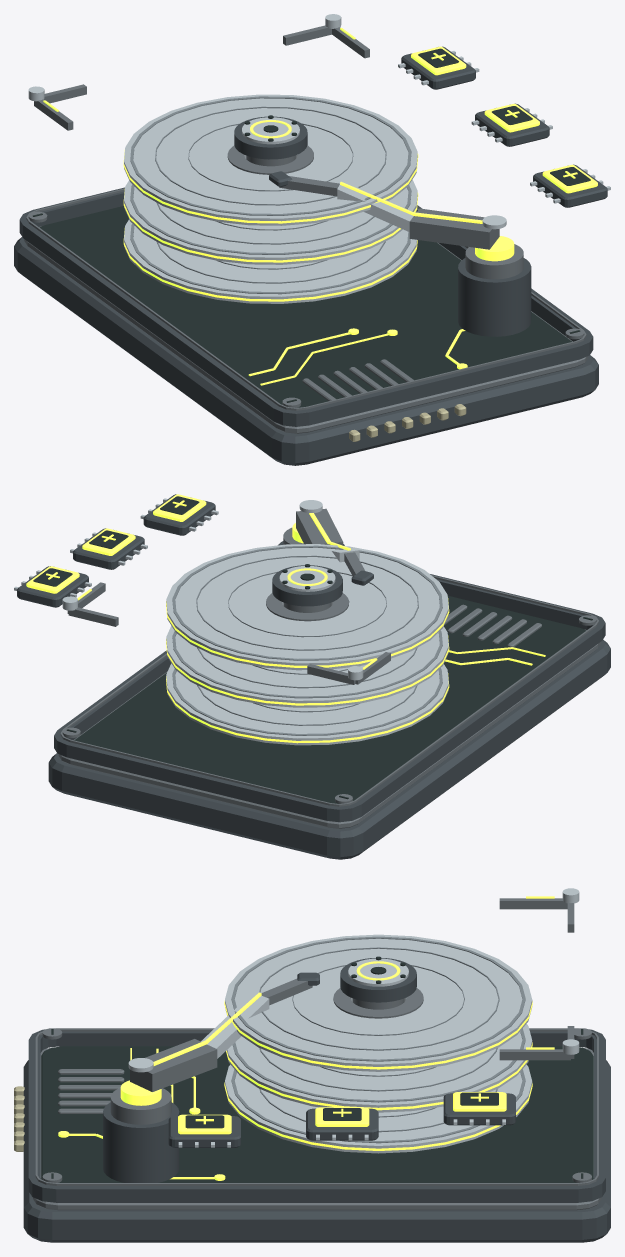
Rendered from drive.glb.
The picture shows the model from 3 angles, top to bottom: view 1: azimuth 30°, elevation 25°; view 2: azimuth 150°, elevation 25°; view 3: azimuth 270°, elevation 25°; orthographic projection. The views are drawn at different scales.
Visible parts, largest first — view 1: 01 / Unibody enclosure, 04 / Suspended platter 3, 06 / Angular actuator arm, 02 / Suspended platter 1, 03 / Suspended platter 2, 05 / Spindle and crown, 07 / Exploded corner rails, 010 / Floating data chip 3, 08 / Floating data chip 1, 09 / Floating data chip 2; view 2: 01 / Unibody enclosure, 04 / Suspended platter 3, 02 / Suspended platter 1, 03 / Suspended platter 2, 05 / Spindle and crown, 06 / Angular actuator arm, 07 / Exploded corner rails, 08 / Floating data chip 1, 09 / Floating data chip 2, 010 / Floating data chip 3; view 3: 01 / Unibody enclosure, 04 / Suspended platter 3, 06 / Angular actuator arm, 03 / Suspended platter 2, 02 / Suspended platter 1, 05 / Spindle and crown, 07 / Exploded corner rails, 09 / Floating data chip 2, 010 / Floating data chip 3, 08 / Floating data chip 1.
Boxes of the visible parts, left/top/right/bottom form: 01 / Unibody enclosure: left=14, top=187, right=598, bottom=465; 04 / Suspended platter 3: left=123, top=94, right=418, bottom=225; 06 / Angular actuator arm: left=269, top=171, right=531, bottom=336; 02 / Suspended platter 1: left=123, top=219, right=417, bottom=303; 03 / Suspended platter 2: left=123, top=179, right=418, bottom=264; 05 / Spindle and crown: left=234, top=115, right=307, bottom=166; 07 / Exploded corner rails: left=28, top=14, right=369, bottom=130; 010 / Floating data chip 3: left=398, top=46, right=479, bottom=89; 08 / Floating data chip 1: left=530, top=164, right=610, bottom=207; 09 / Floating data chip 2: left=471, top=103, right=552, bottom=146; 01 / Unibody enclosure: left=48, top=574, right=610, bottom=859; 04 / Suspended platter 3: left=166, top=544, right=449, bottom=670; 02 / Suspended platter 1: left=166, top=663, right=449, bottom=745; 03 / Suspended platter 2: left=166, top=626, right=449, bottom=707; 05 / Spindle and crown: left=272, top=564, right=342, bottom=612; 06 / Angular actuator arm: left=278, top=500, right=373, bottom=585; 07 / Exploded corner rails: left=62, top=582, right=390, bottom=684; 08 / Floating data chip 1: left=140, top=494, right=218, bottom=535; 09 / Floating data chip 2: left=70, top=528, right=147, bottom=569; 010 / Floating data chip 3: left=14, top=566, right=91, bottom=607; 01 / Unibody enclosure: left=14, top=1028, right=610, bottom=1242; 04 / Suspended platter 3: left=224, top=934, right=532, bottom=1071; 06 / Angular actuator arm: left=103, top=972, right=319, bottom=1182; 03 / Suspended platter 2: left=226, top=1024, right=532, bottom=1112; 02 / Suspended platter 1: left=224, top=1064, right=532, bottom=1153; 05 / Spindle and crown: left=340, top=956, right=416, bottom=1009; 07 / Exploded corner rails: left=499, top=888, right=579, bottom=1060; 09 / Floating data chip 2: left=306, top=1107, right=378, bottom=1140; 010 / Floating data chip 3: left=443, top=1092, right=515, bottom=1125; 08 / Floating data chip 1: left=168, top=1114, right=240, bottom=1147.
Bounding box in the file's own units: 4 × 1.76 × 4.86.
